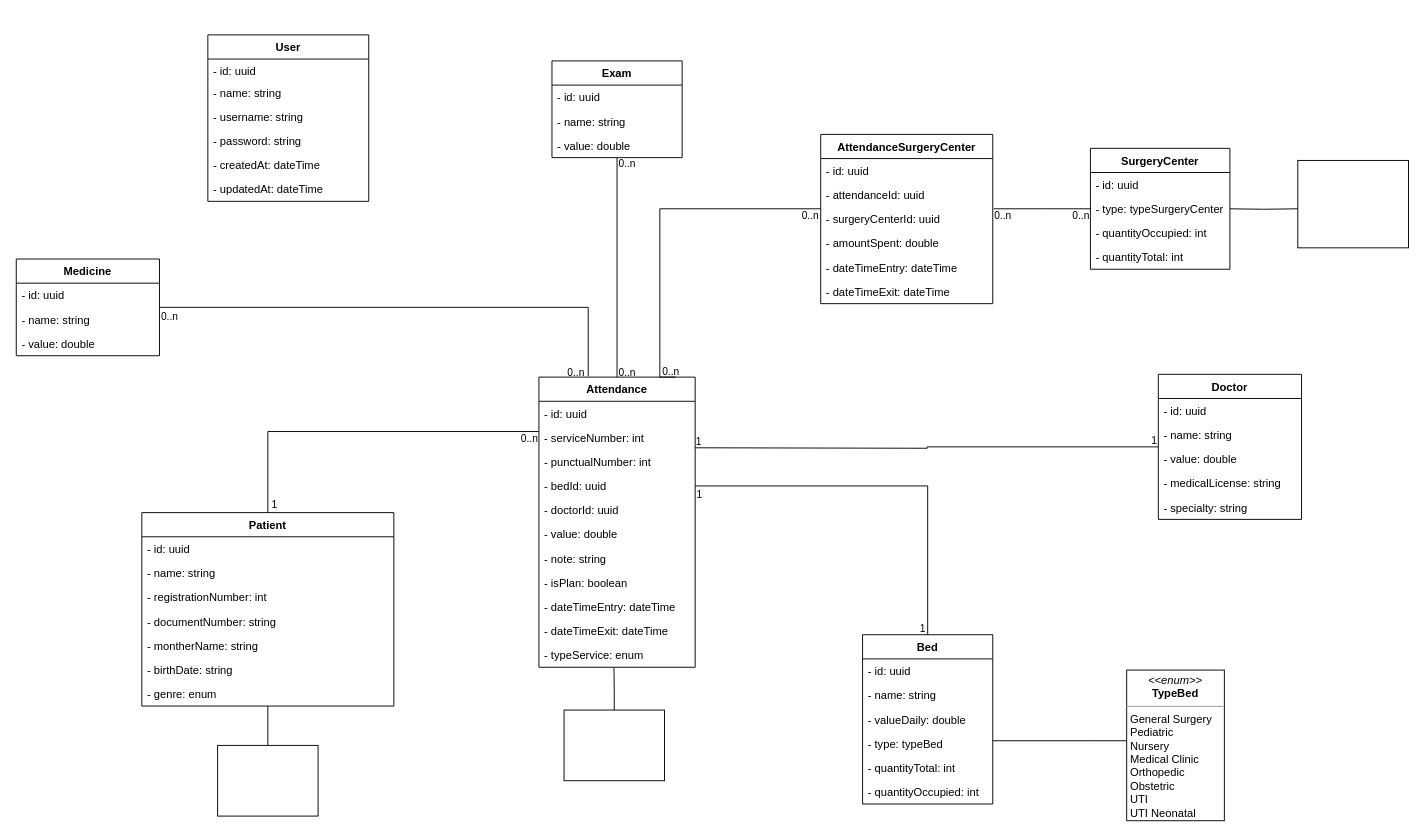
Some shapes in this 1425 by 837 pixel diagram are drawn without their labels. Each missing label, with the centre of its shape:
"<<enum>> Genre Masculine Female" belongs at pixel 267 780.
"<<enum>> TypeService Normal Urgency" belongs at pixel 613 745.
"<<enum>> TypeSurgeryCenter Surgical Obstetric Waiting Room" belongs at pixel 1352 203.
